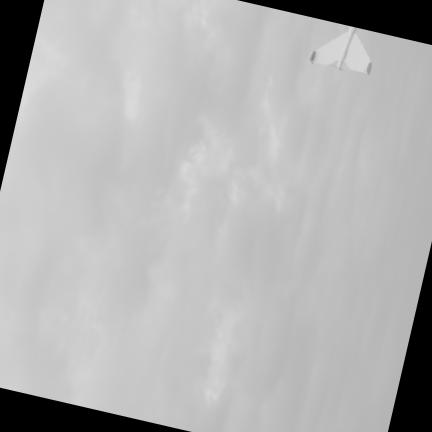Shahed: (310, 25, 372, 71)
